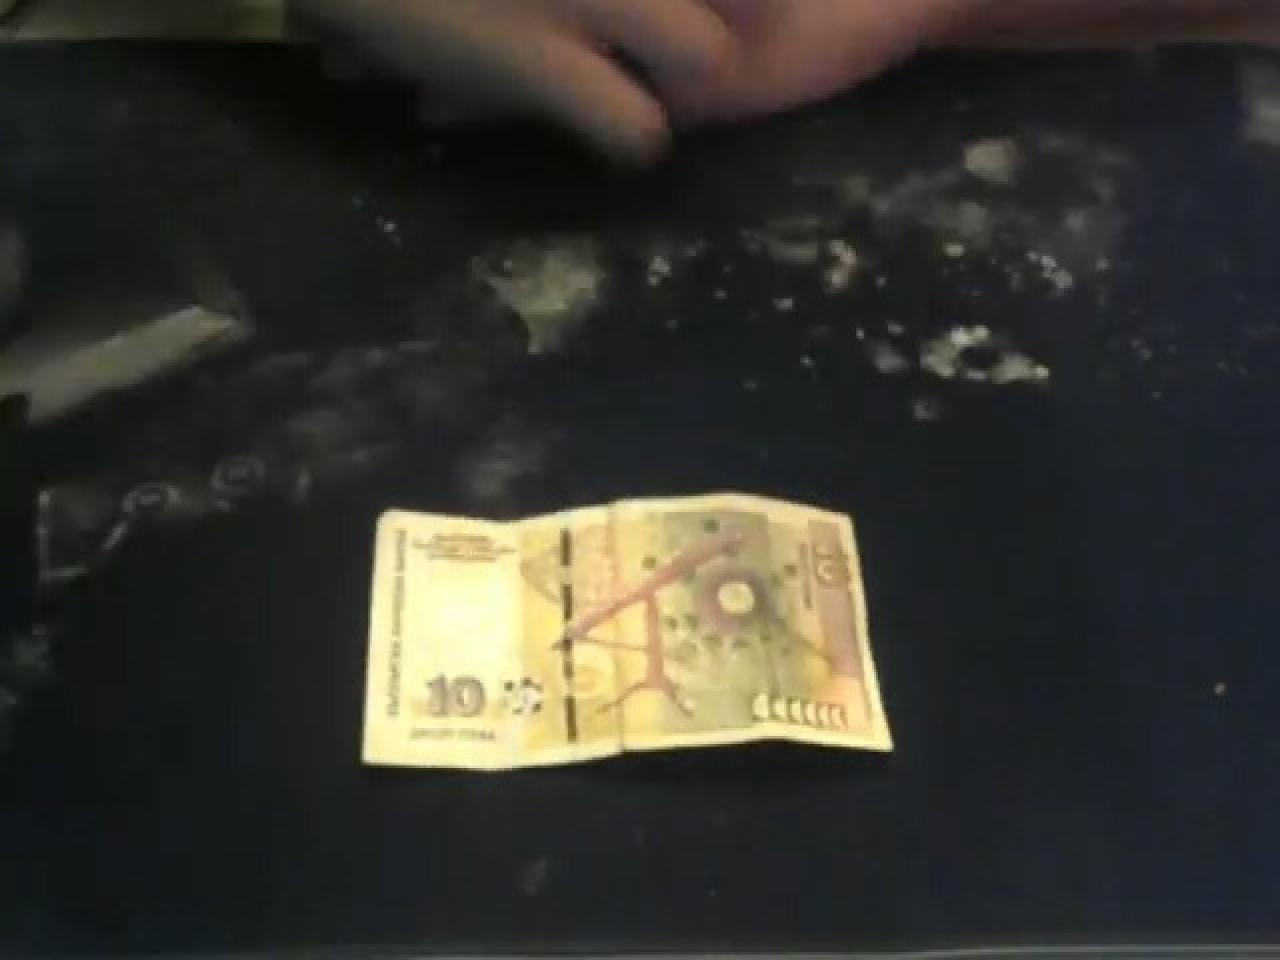10leva: (360, 496, 894, 778)
